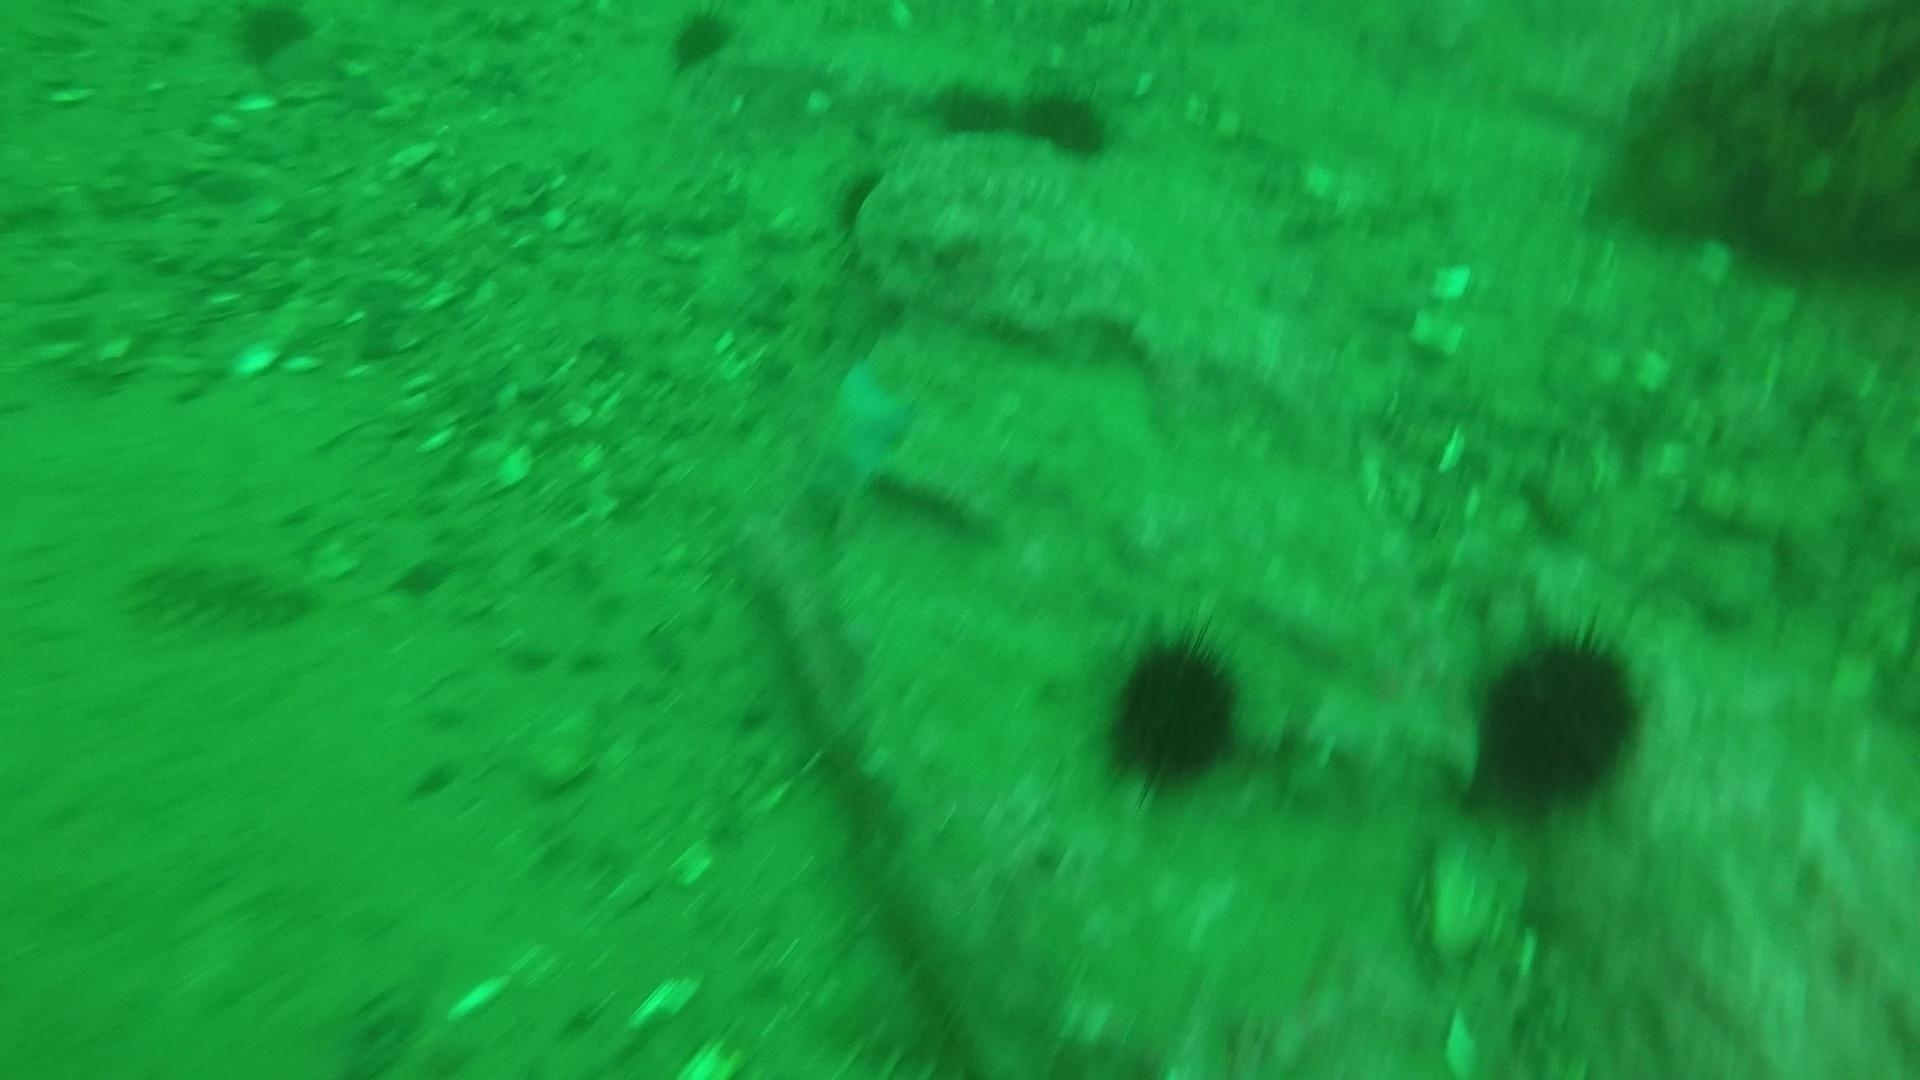echinus: (1457, 615, 1655, 818), (1091, 618, 1255, 799), (1014, 80, 1118, 164), (928, 76, 1018, 156), (224, 1, 320, 73), (659, 4, 745, 76), (825, 160, 893, 228)
holothurian: (120, 537, 324, 636)
starfish: (789, 353, 923, 512)
